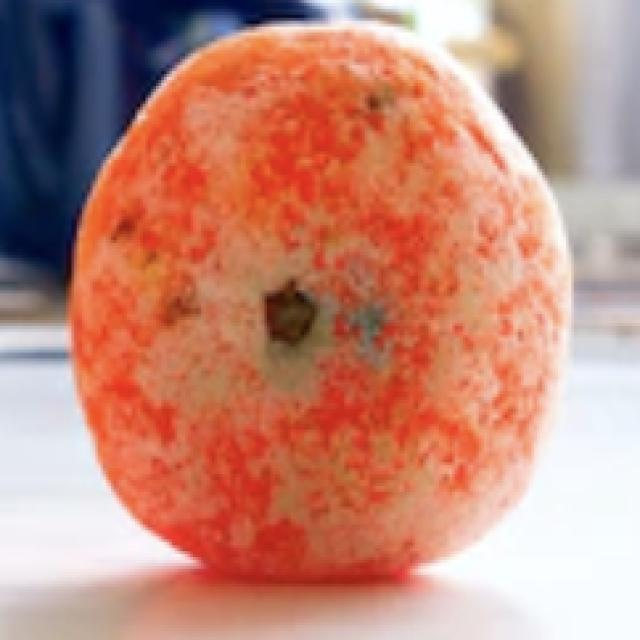sangat-busuk: (69, 23, 570, 579)
